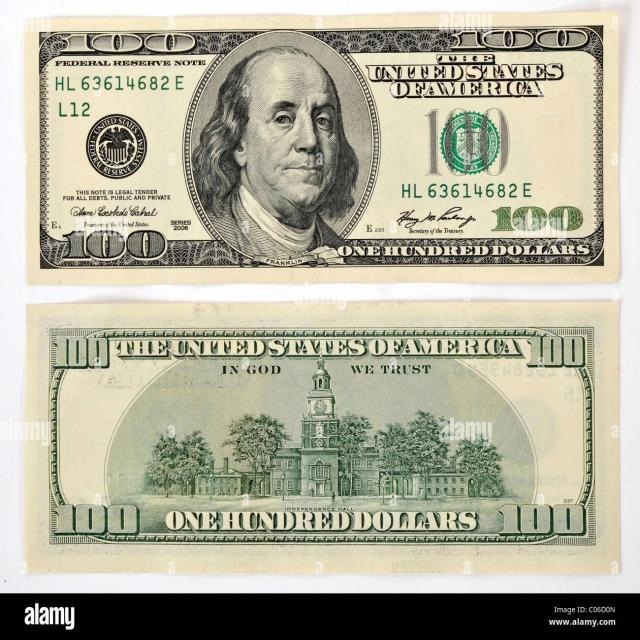100-Back: (22, 299, 621, 574)
100-Front: (44, 23, 616, 284)
